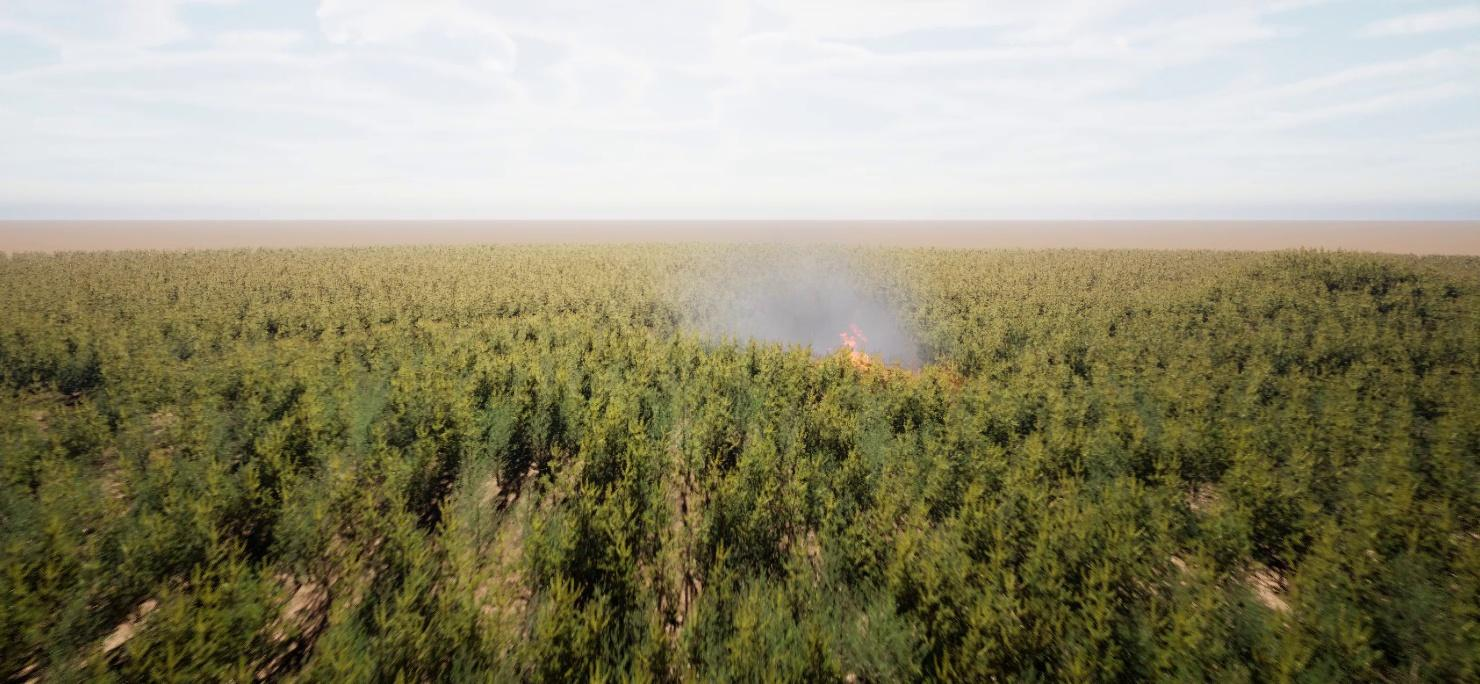fire: (828, 320, 874, 368)
smoke: (681, 238, 925, 384)
